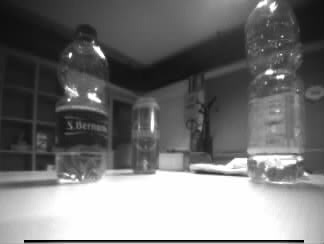Bottle: (245, 1, 304, 183), (55, 23, 107, 178)
Tin can: (131, 98, 159, 173)
